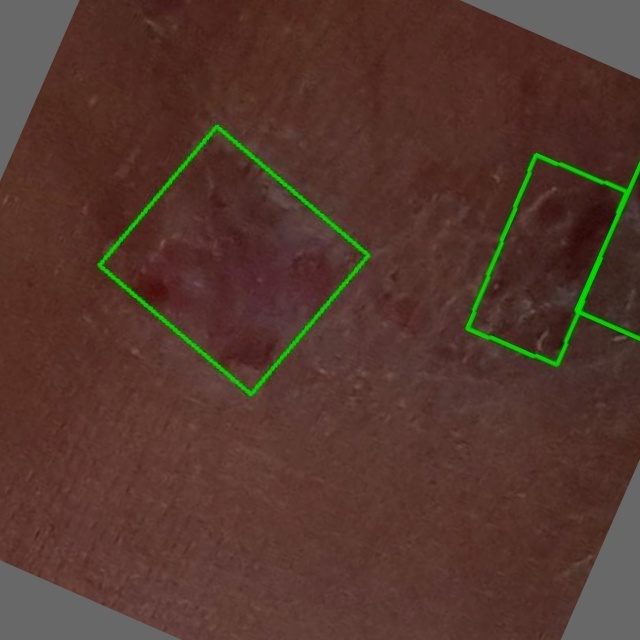Contact Dermatitis: (99, 127, 369, 395), (467, 155, 627, 365)
